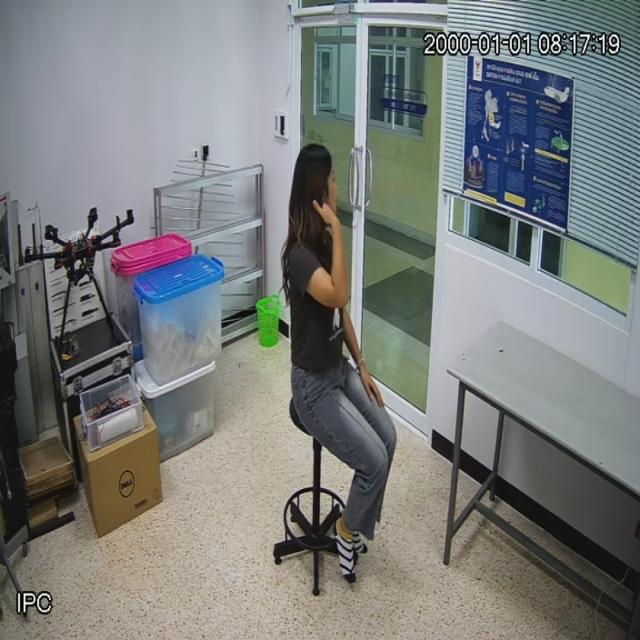normal: (273, 127, 401, 587)
